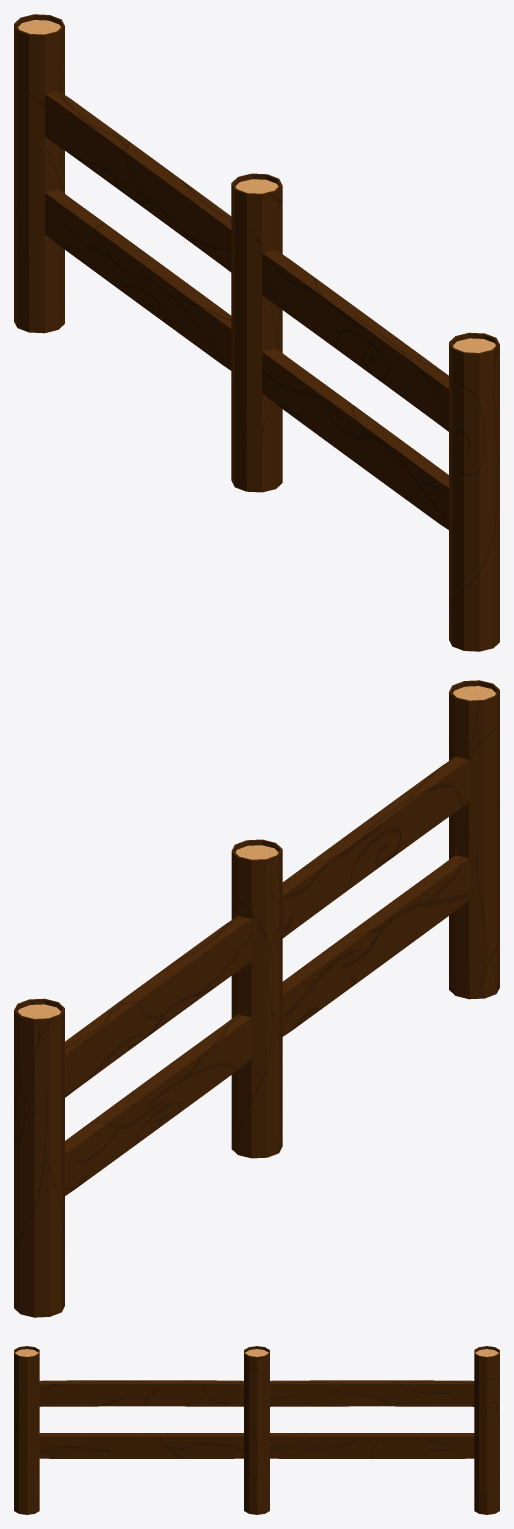
File: fence.fbx
3 views of the same model, one above another, from view 1: azimuth 30°, elevation 25°; view 2: azimuth 150°, elevation 25°; view 3: azimuth 270°, elevation 25° (orthographic). The views are drawn at different scales.
Parts seen in each view (by area): view 1: Cube; view 2: Cube; view 3: Cube.
Boxes of the visible parts, bbox=[...] form: Cube: bbox=[14, 14, 499, 651]; Cube: bbox=[14, 680, 499, 1317]; Cube: bbox=[14, 1346, 499, 1514].
Bounding box in the file's own units: 81.71 × 523 × 1463.
Materials: 1 (1 with a texture image).
